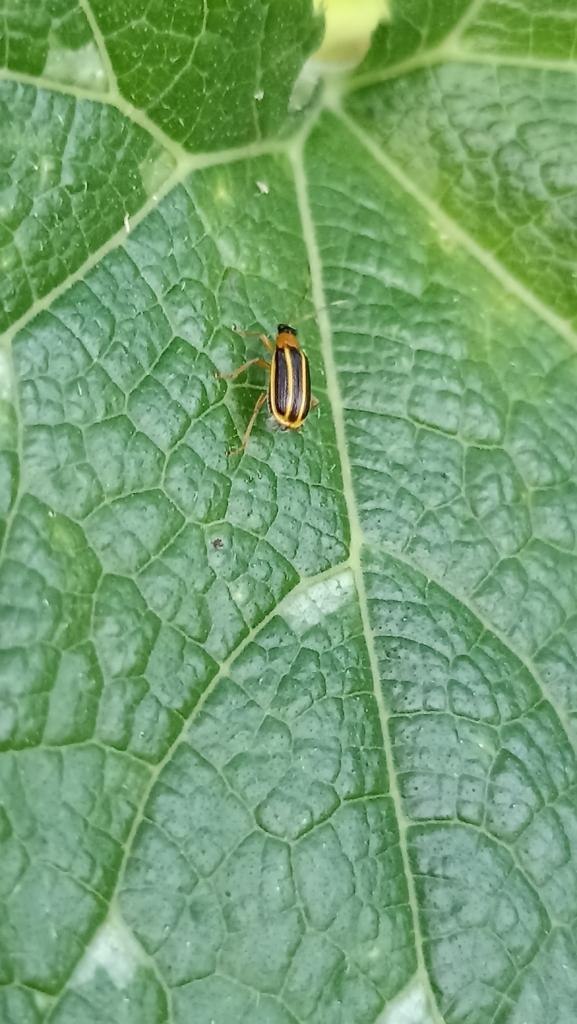potato_beetle: (201, 266, 371, 481)
